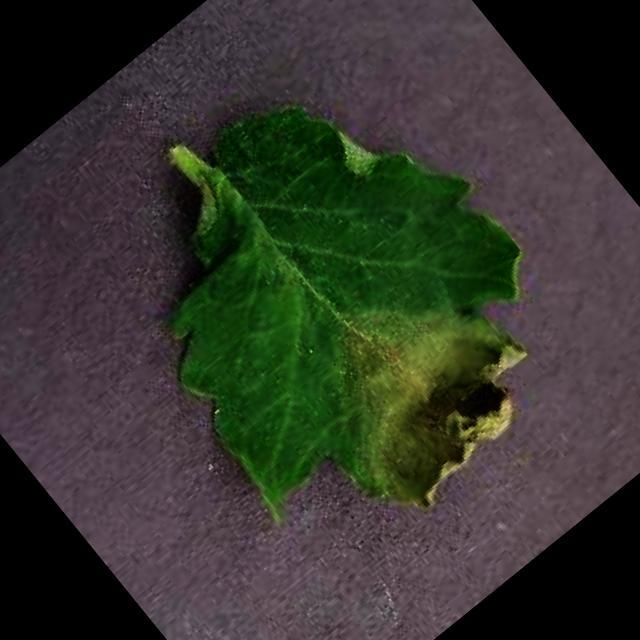Tomato late blight leaf: (66, 30, 615, 589)
